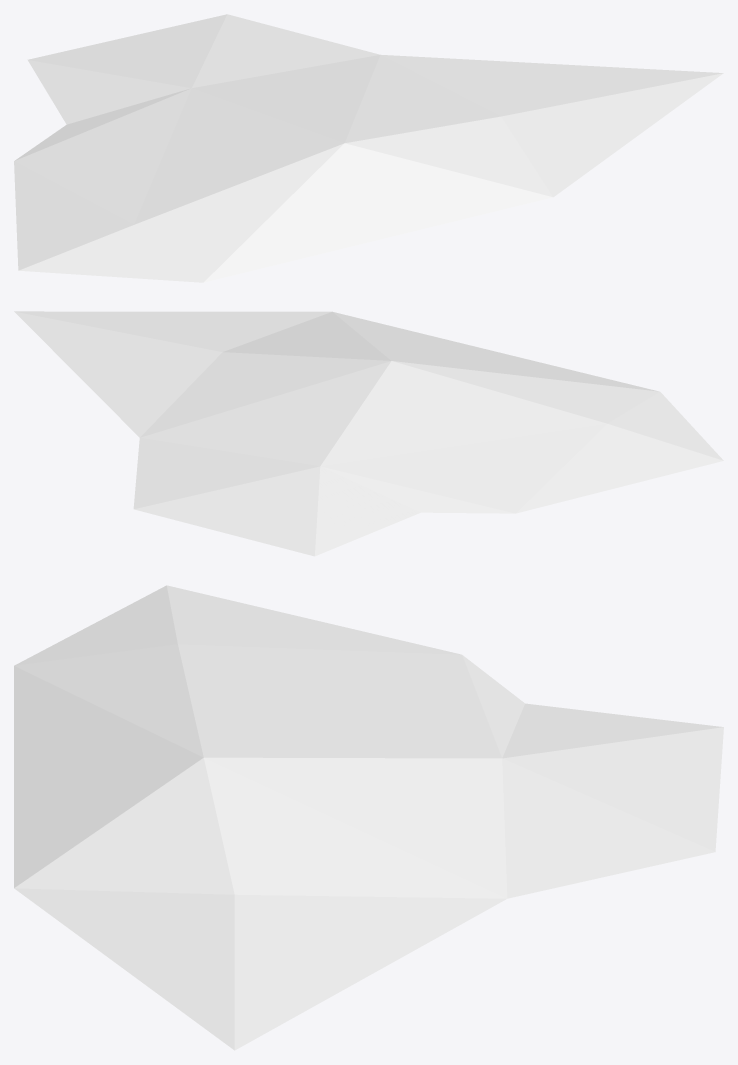
Rendered from SM_Env_Flowers_02.glb.
3 views of the same model, one above another, from view 1: azimuth 30°, elevation 25°; view 2: azimuth 150°, elevation 25°; view 3: azimuth 270°, elevation 25° (orthographic). The views are drawn at different scales.
Visible parts, largest first — view 1: SM_Env_Flowers_02; view 2: SM_Env_Flowers_02; view 3: SM_Env_Flowers_02.
Boxes of the visible parts, <box> form: SM_Env_Flowers_02: <box>14,14,723,282</box>; SM_Env_Flowers_02: <box>14,311,723,556</box>; SM_Env_Flowers_02: <box>14,585,723,1050</box>.
Bounding box in the file's own units: 0.9013 × 0.04 × 0.5812.
Materials: 1 (1 with a texture image).
